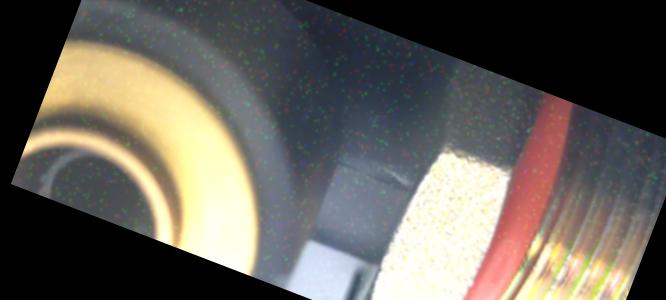joint line: (336, 161, 408, 195)
white mark: (375, 165, 416, 188)
